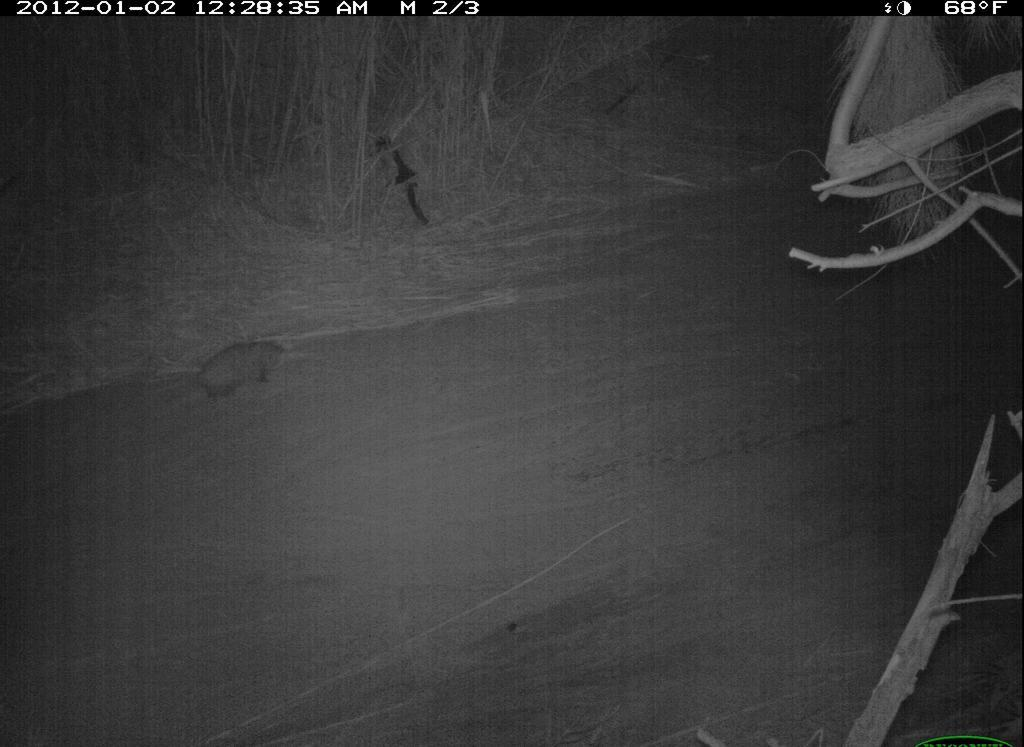opossum: (164, 331, 303, 413)
